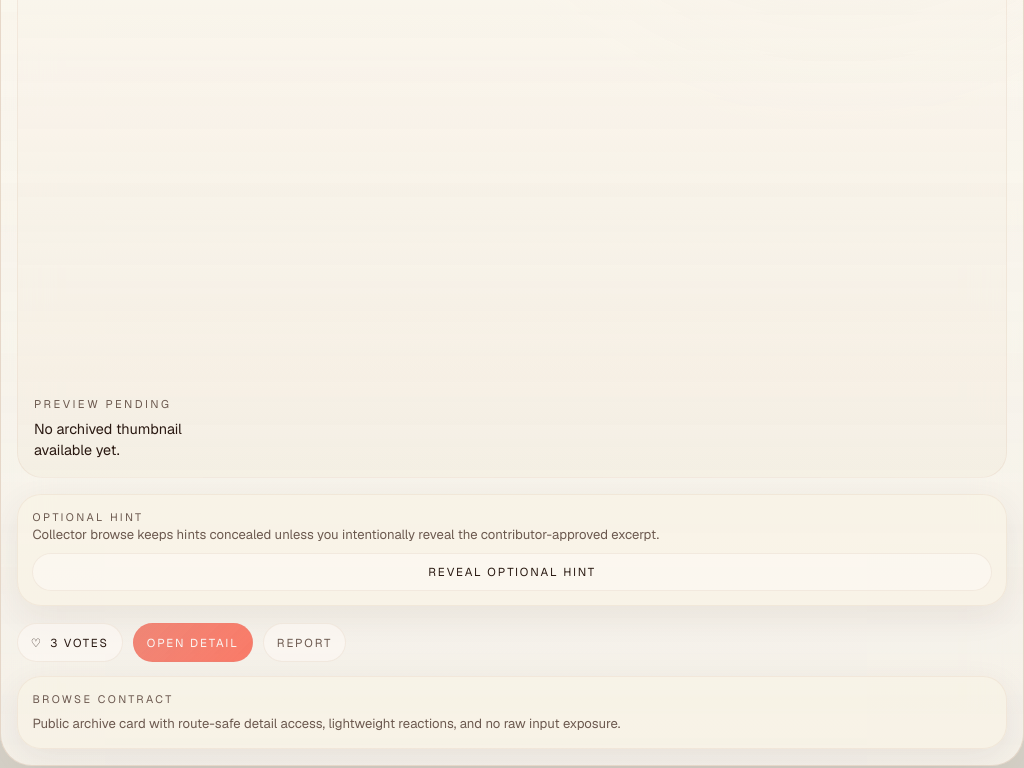
Test: GAL-04: GalleryCard hides input preview by default, reveals on click › reveals preview when button clicked
This screenshot has width=1024, height=768.
(page scrolled)
Step 1. Click the button with aria-label "reveal input preview" → point(512, 572), box [32,553,992,591]
(page scrolled)
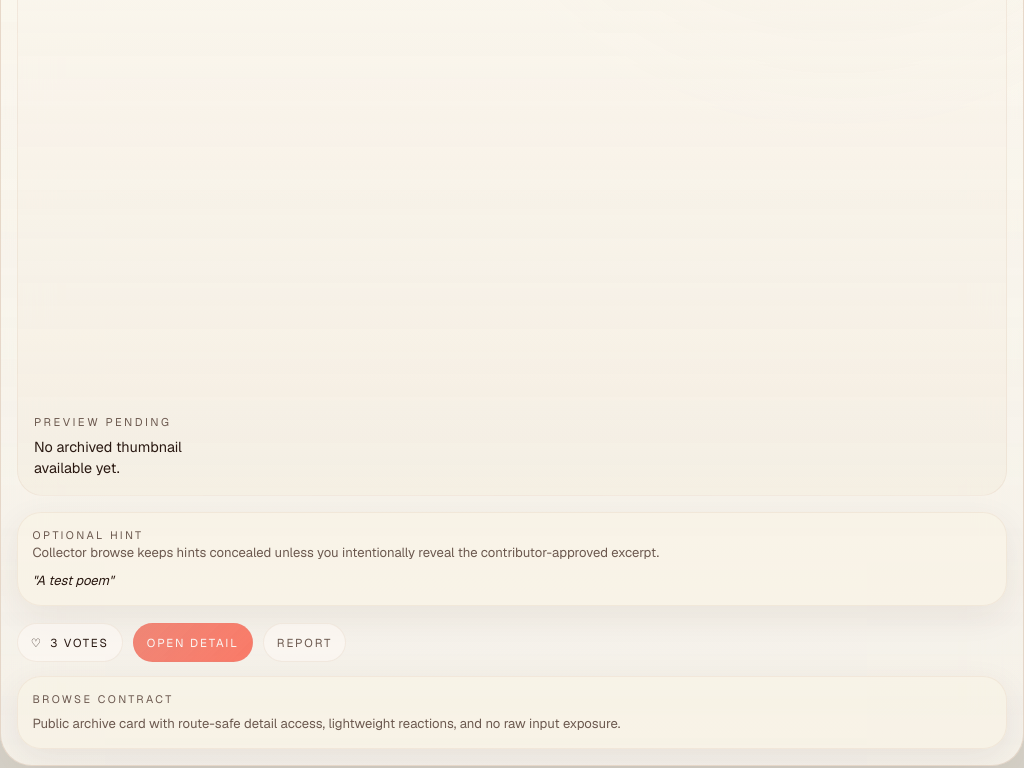
Expected: the text "\"A test poem\"" is shown, [32,572,114,589]
